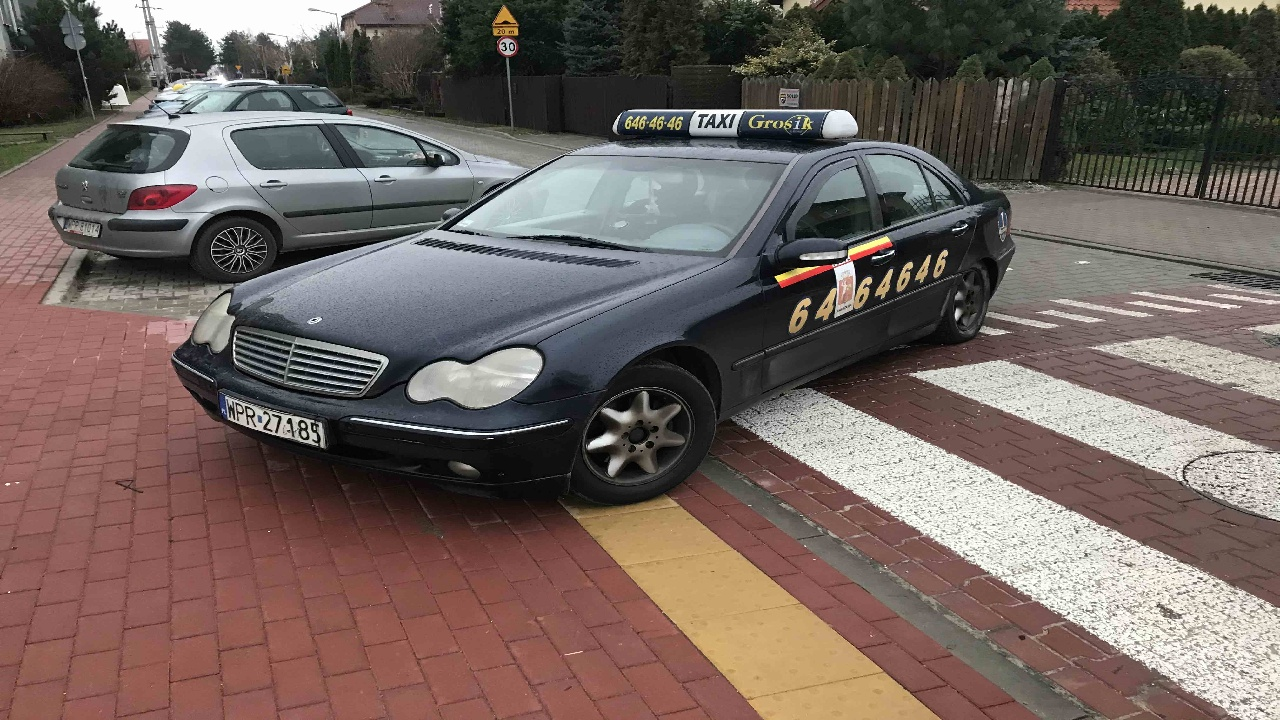B33_30: (491, 35, 520, 57)
